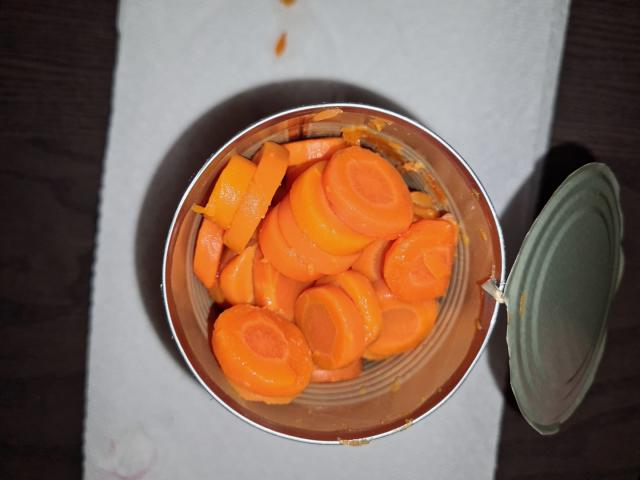kichen waste: (196, 136, 454, 404)
